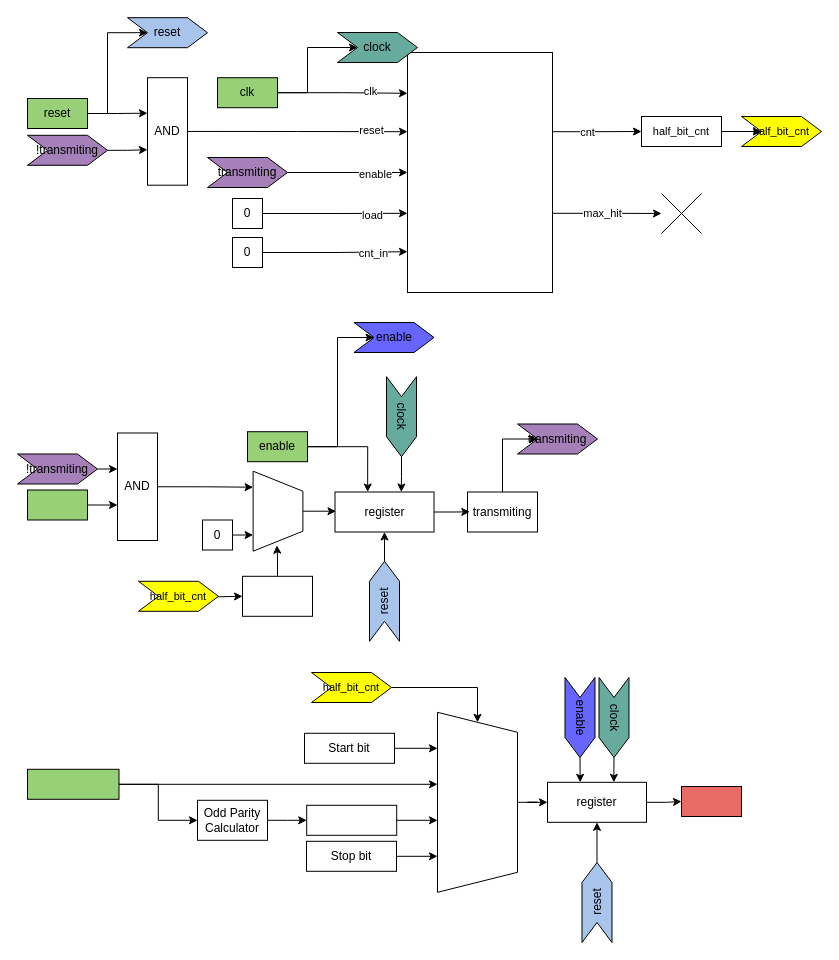
This 839x960 diagram has some shape labels left out. The shapes that lost their labels are listed below. From the top down, each one's centre as x and y in pixels, then its label:
At (479,172): "half bit position counters".
At (57,504): "tx_send".
At (277,595): "transmition ended".
At (72,783): "Tx_Data[x]".
At (711,801): "Tx".
At (351,819): "Parity Bit".
